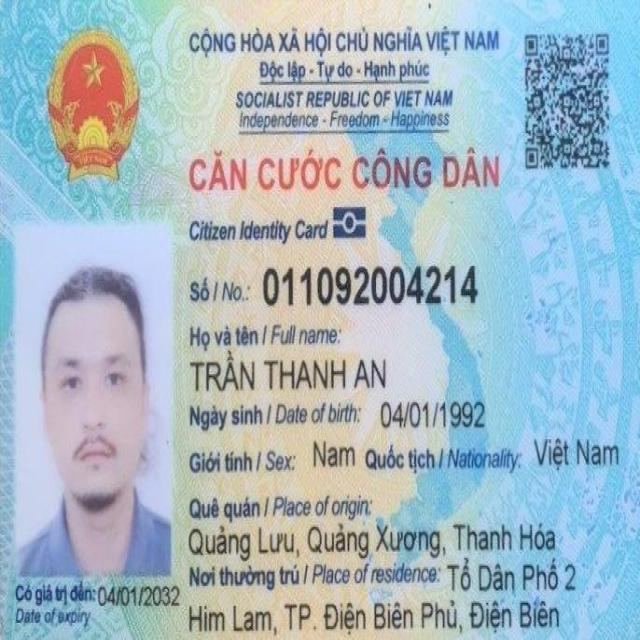current_place: (188, 598, 561, 636), (447, 556, 575, 594)
dob: (380, 399, 486, 428)
expire_date: (98, 584, 181, 608)
gender: (311, 439, 357, 469)
id: (263, 265, 479, 308)
name: (190, 349, 386, 392)
nationality: (535, 434, 620, 473)
origin_place: (187, 523, 558, 561)
